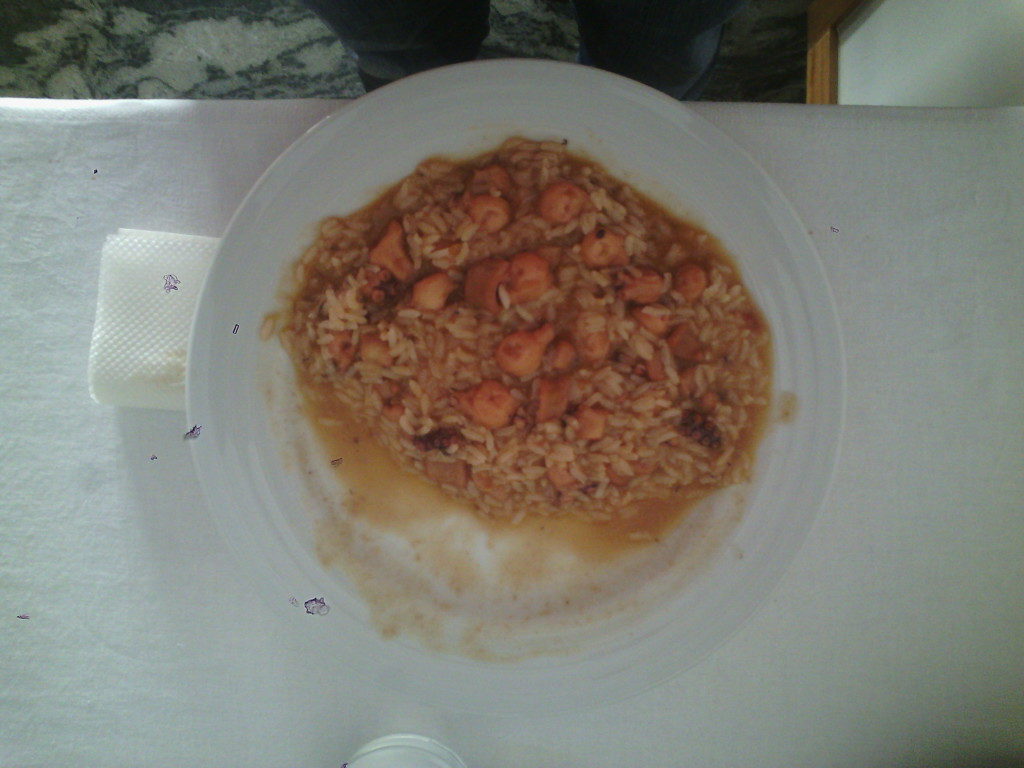61-80: (187, 57, 846, 717)
